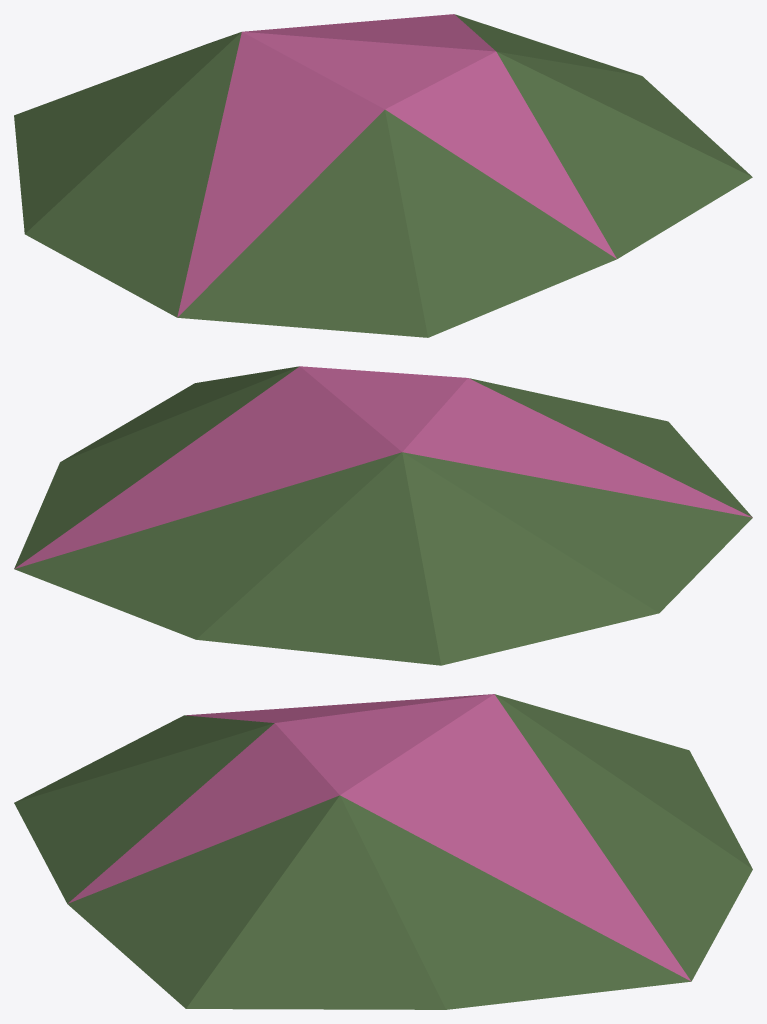
The model's file is Lilypad.lod4.glb.
The picture shows the model from 3 angles, top to bottom: view 1: azimuth 30°, elevation 25°; view 2: azimuth 150°, elevation 25°; view 3: azimuth 270°, elevation 25°; orthographic projection. The views are drawn at different scales.
Visible parts, largest first — view 1: Lilypad; view 2: Lilypad; view 3: Lilypad.
Part boxes in pixels (x1,y1,x2,y2): Lilypad: (14, 14, 752, 337); Lilypad: (14, 366, 752, 665); Lilypad: (14, 694, 752, 1009).
Size of the model in its own units: 1.2 by 0.2345 by 1.19.
